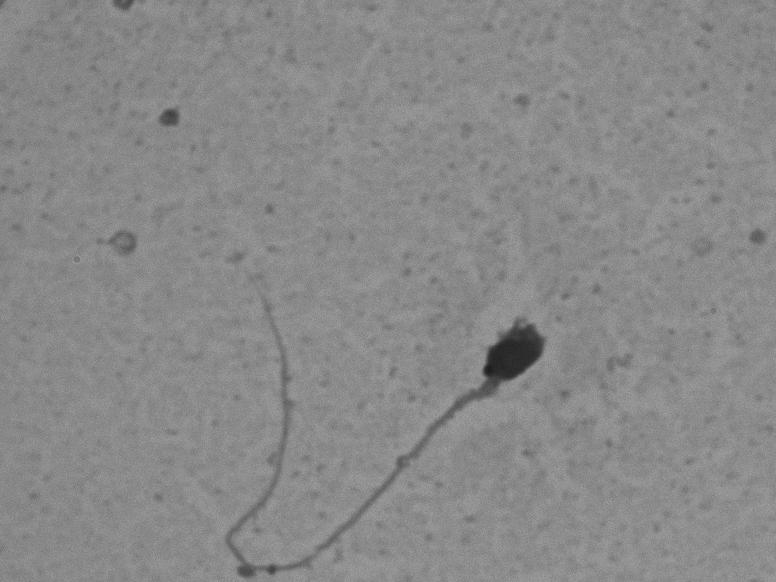Abnormal: (181, 278, 616, 576)
